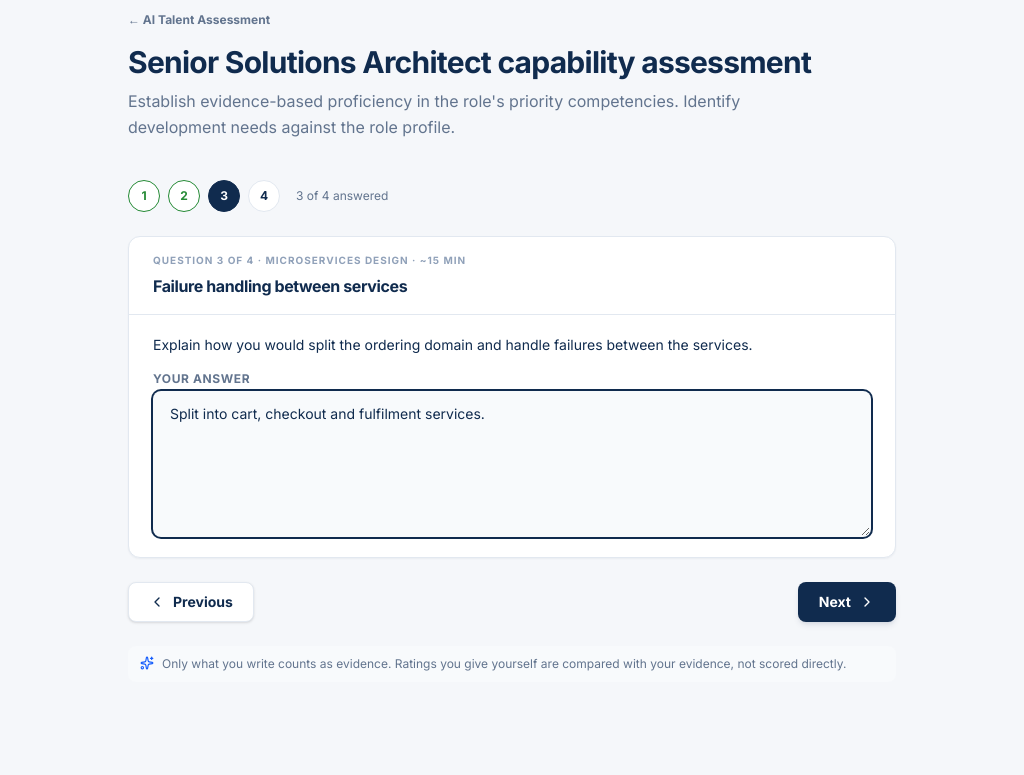
Test: AI Talent Assessment — participant › navigates questions, captures each response type and submits
Earlier steps of the test are not shown.
# Jump directly to the last question via the navigator, then back.
Click the button named "Question 4" at (264, 196), box [248, 180, 280, 212]
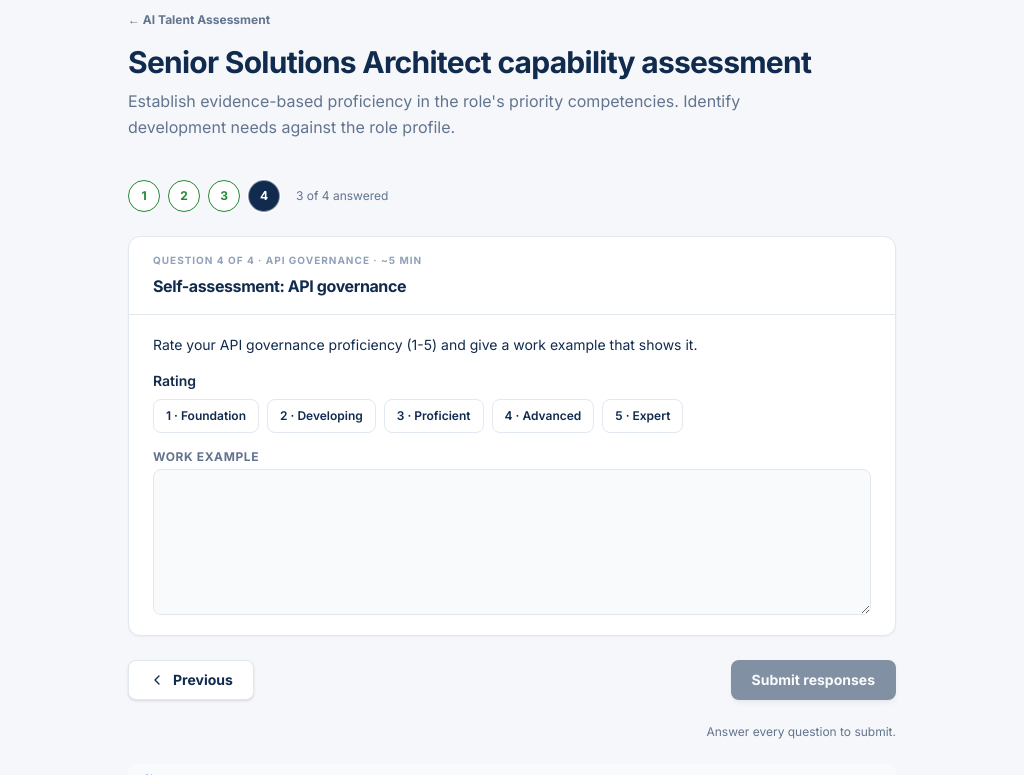
Expected: the text "Self-assessment: API governance" is shown, [153, 276, 406, 296]
Expected: the button "Submit responses" is disabled, [731, 660, 896, 700]
# Self-assessment: rating + example.
Click the button "4 · Advanced" at (543, 416), box [492, 399, 594, 433]
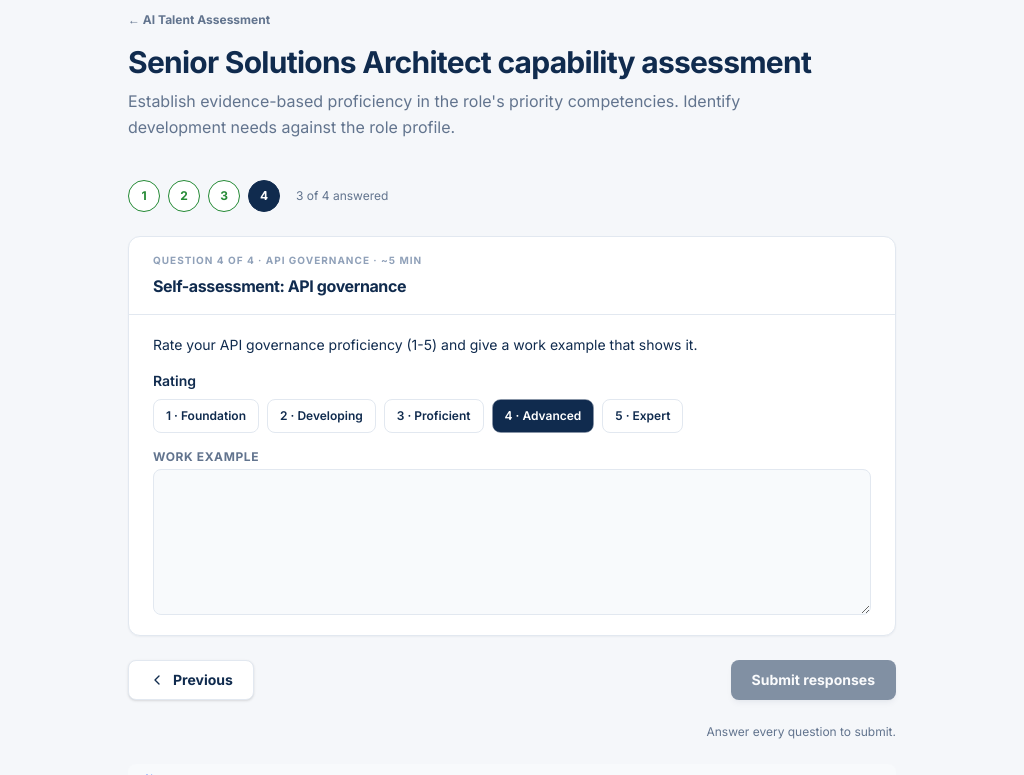
Type "I document every endpoint with the API template." into the text box labelled "Work example" at (512, 542), box [153, 469, 871, 615]
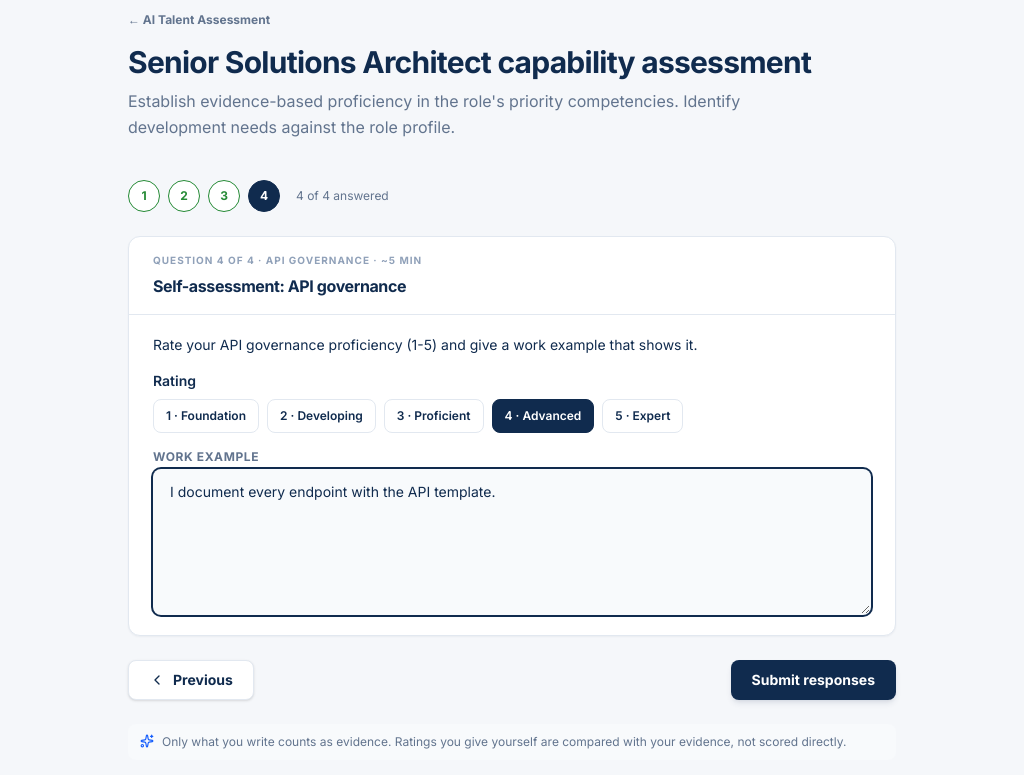
Click the button named "Question 1 (answered)" at (144, 196), box [128, 180, 160, 212]
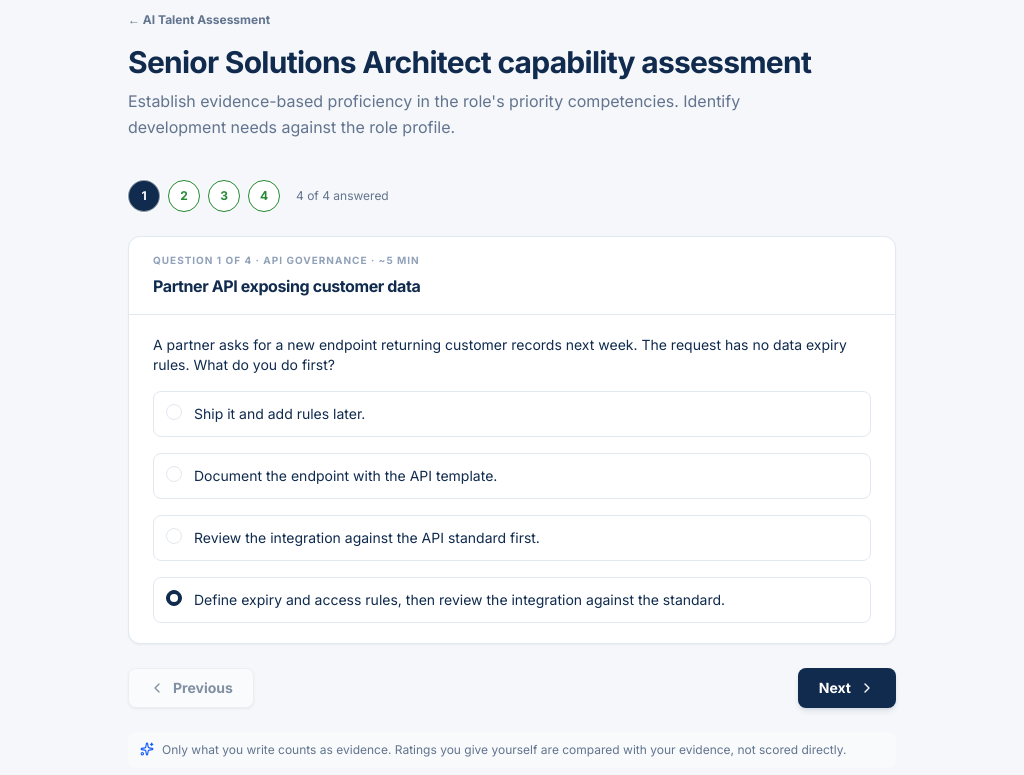
Click the button named "Question 4" at (264, 196), box [248, 180, 280, 212]
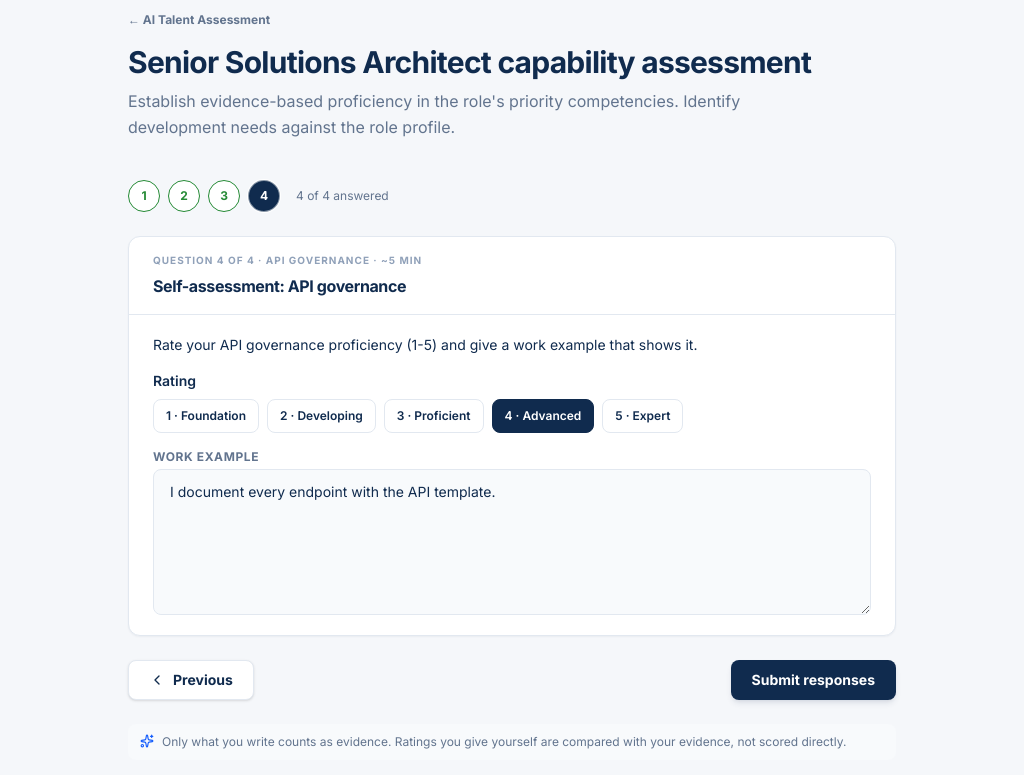
Click the button "Submit responses" at (813, 680), box [731, 660, 896, 700]
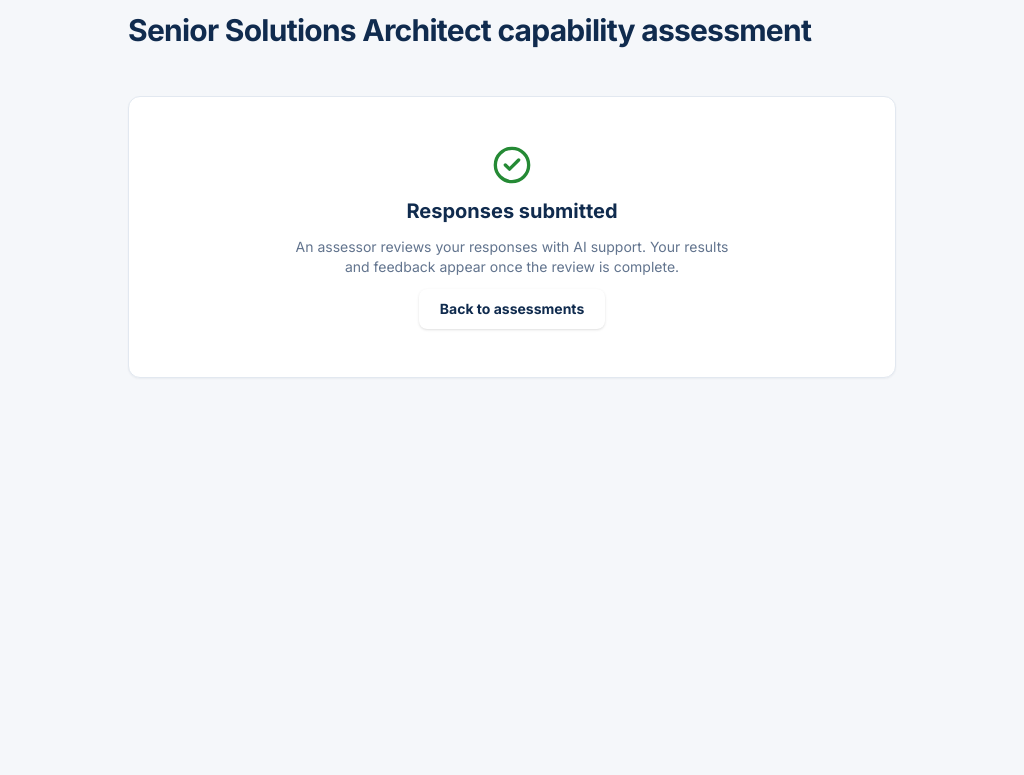
Expected: the heading "Responses submitted" is shown, [406, 197, 618, 225]
